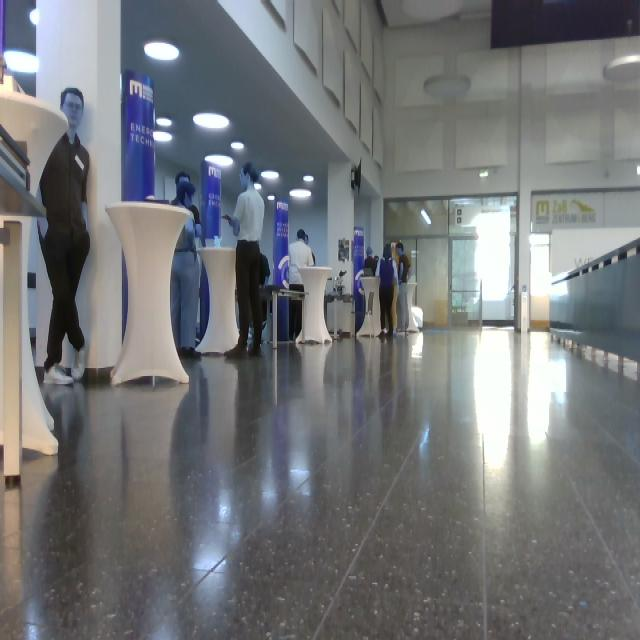door: (449, 236, 481, 329)
light bulb: (424, 73, 471, 101), (603, 55, 640, 83), (4, 49, 39, 74), (144, 41, 180, 62), (193, 112, 230, 130), (205, 154, 234, 168), (153, 131, 173, 143), (290, 189, 312, 198), (261, 170, 279, 180), (421, 209, 432, 225), (157, 117, 172, 128), (30, 8, 39, 26), (231, 141, 245, 150), (303, 175, 314, 183), (480, 169, 488, 178), (254, 183, 262, 191), (268, 194, 275, 201)
person: (37, 88, 91, 386), (222, 163, 266, 359), (288, 229, 316, 342), (375, 244, 399, 337), (393, 242, 412, 333)
table: (104, 198, 196, 392)
tiled floor: (1, 325, 639, 638)
